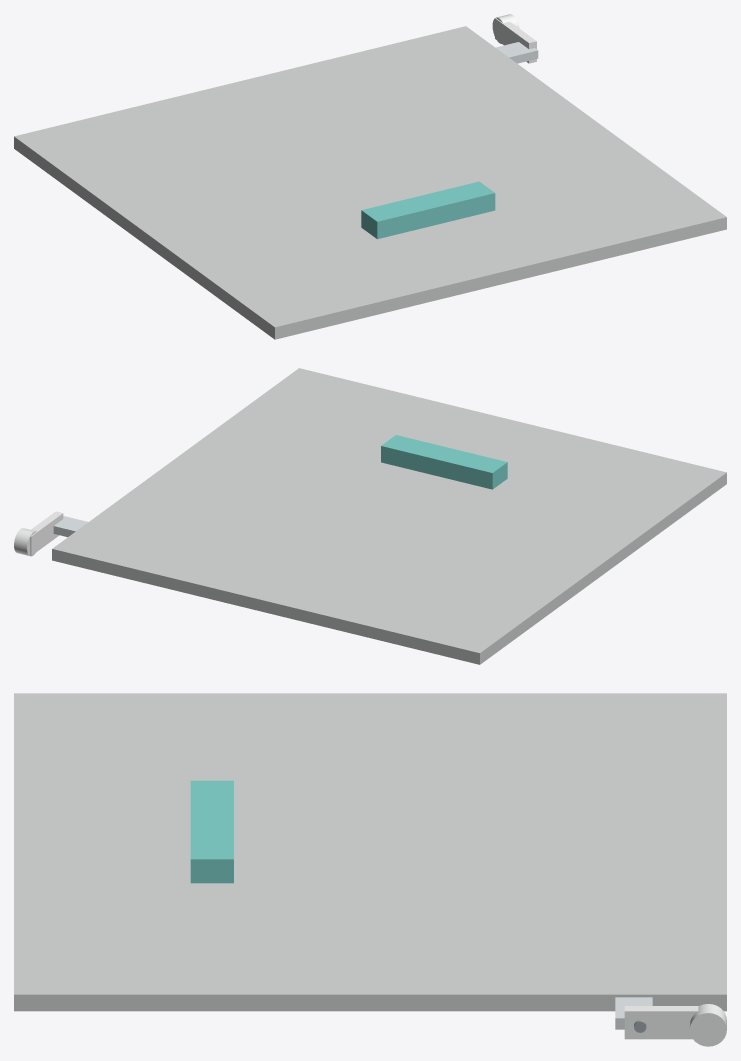
Rendered from lid.glb.
3 renders of one model, top to bottom at view 1: azimuth 30°, elevation 25°; view 2: azimuth 150°, elevation 25°; view 3: azimuth 270°, elevation 25°, orthographic. The views are drawn at different scales.
Size of the model in its own units: 0.2505 by 0.0175 by 0.23.
